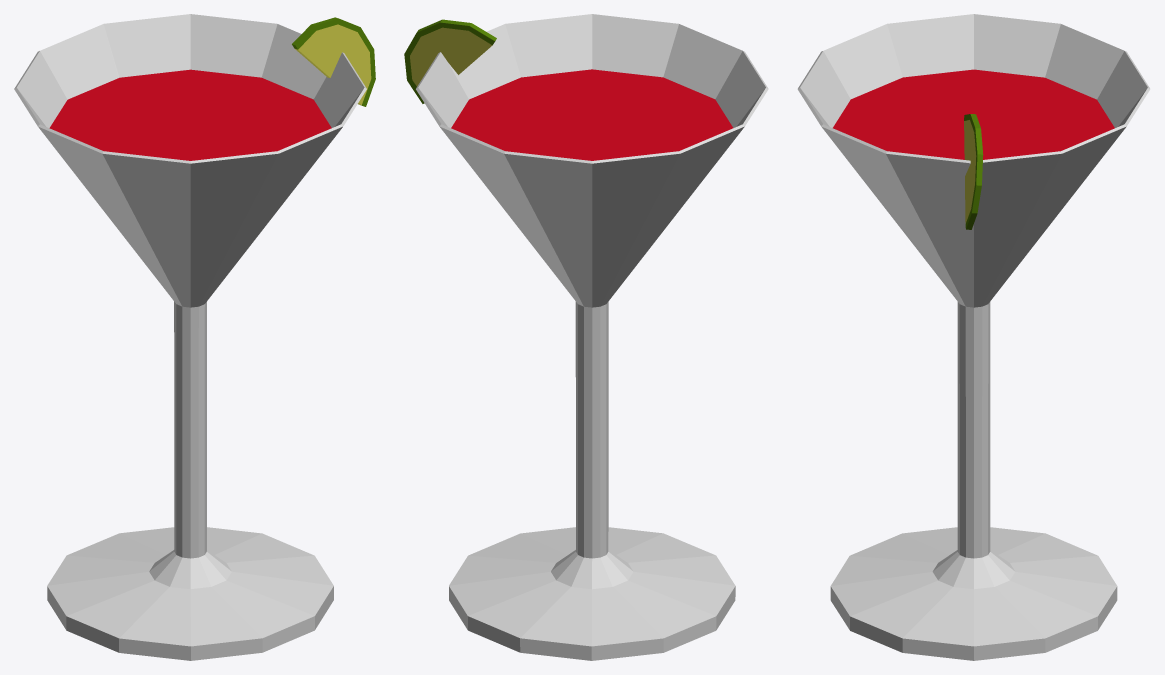
Rendered from cocktail.gltf.
3 renders of one model, left to right at view 1: azimuth 30°, elevation 25°; view 2: azimuth 150°, elevation 25°; view 3: azimuth 270°, elevation 25°, orthographic.
Parts seen in each view (by area): view 1: node-0; view 2: node-0; view 3: node-0.
Part boxes in pixels (<box>): node-0: <box>14,14,375,660</box>; node-0: <box>404,14,768,660</box>; node-0: <box>797,14,1150,660</box>.
Size of the model in its own units: 2.24 by 3.46 by 2.03.
